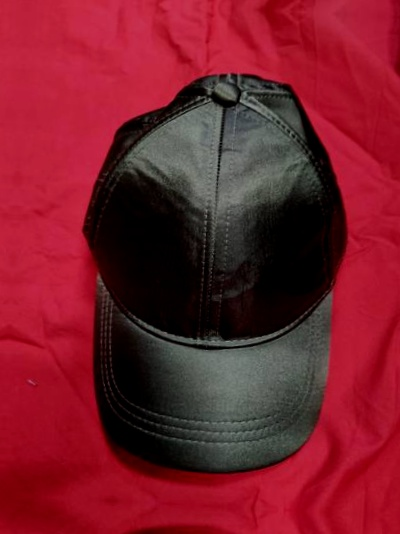Hat: (47, 51, 379, 490), (22, 521, 354, 534)
